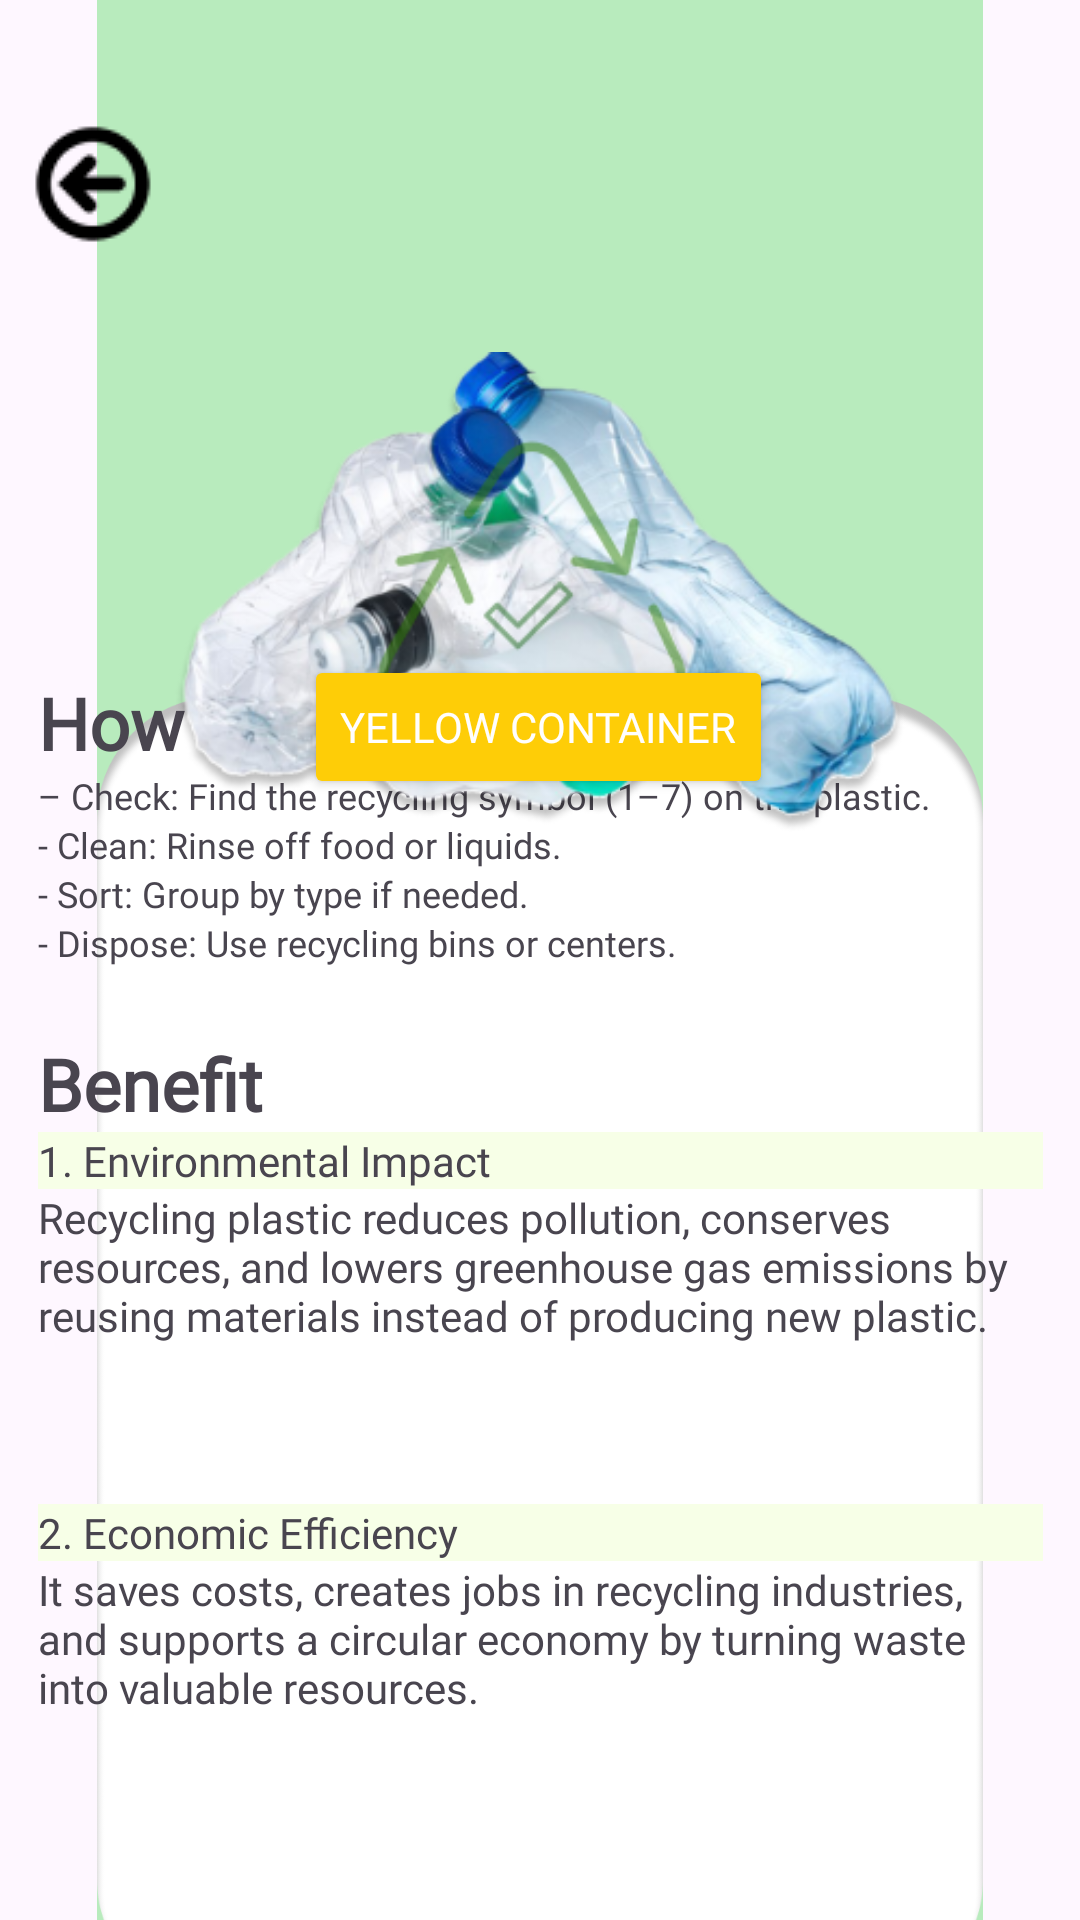

Icon bounding boxes for this 1080px x 1920px phone screenshot, format {"left": x1, "top": y1, "right": x2, "bottom": y2}:
back: {"left": 0, "top": 100, "right": 151, "bottom": 268}
